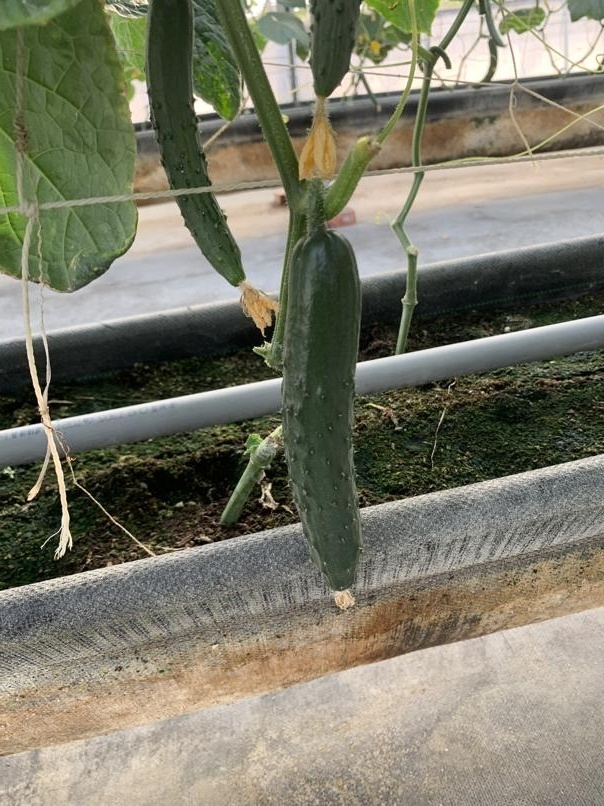mature: (141, 0, 250, 284), (283, 227, 366, 592)
